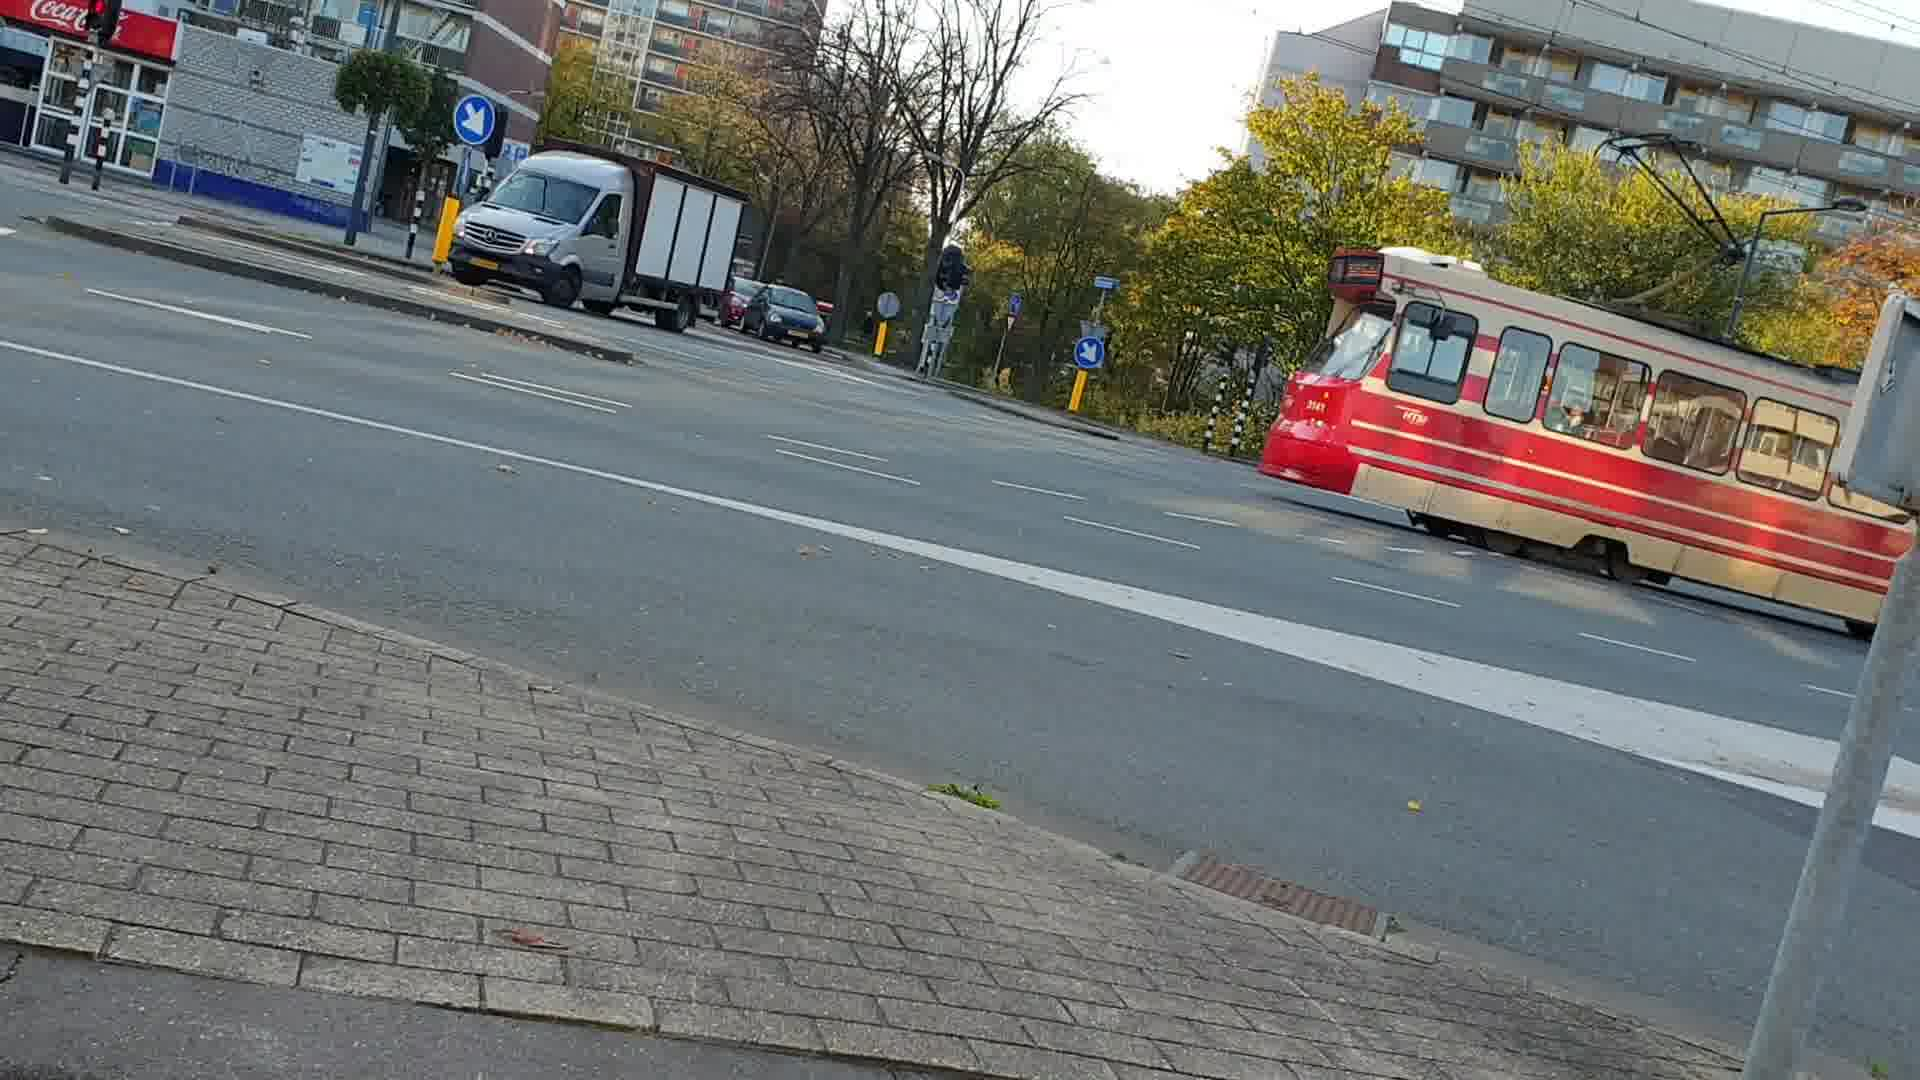car: (456, 135, 741, 338), (756, 282, 829, 353)
